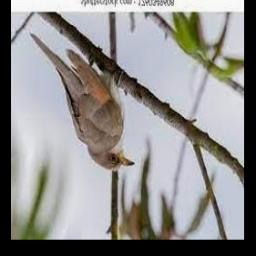Cuckoo: (29, 33, 135, 171)
